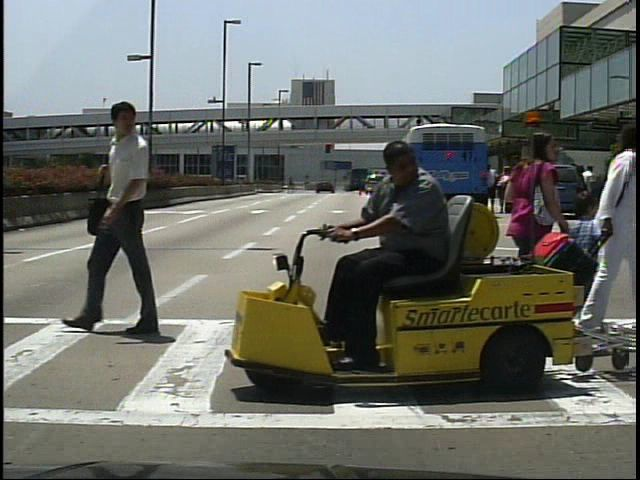person: (316, 138, 466, 373), (92, 100, 163, 337), (500, 124, 568, 355), (577, 116, 639, 346), (567, 186, 610, 327), (580, 162, 601, 215), (482, 162, 502, 211), (502, 165, 520, 218)
